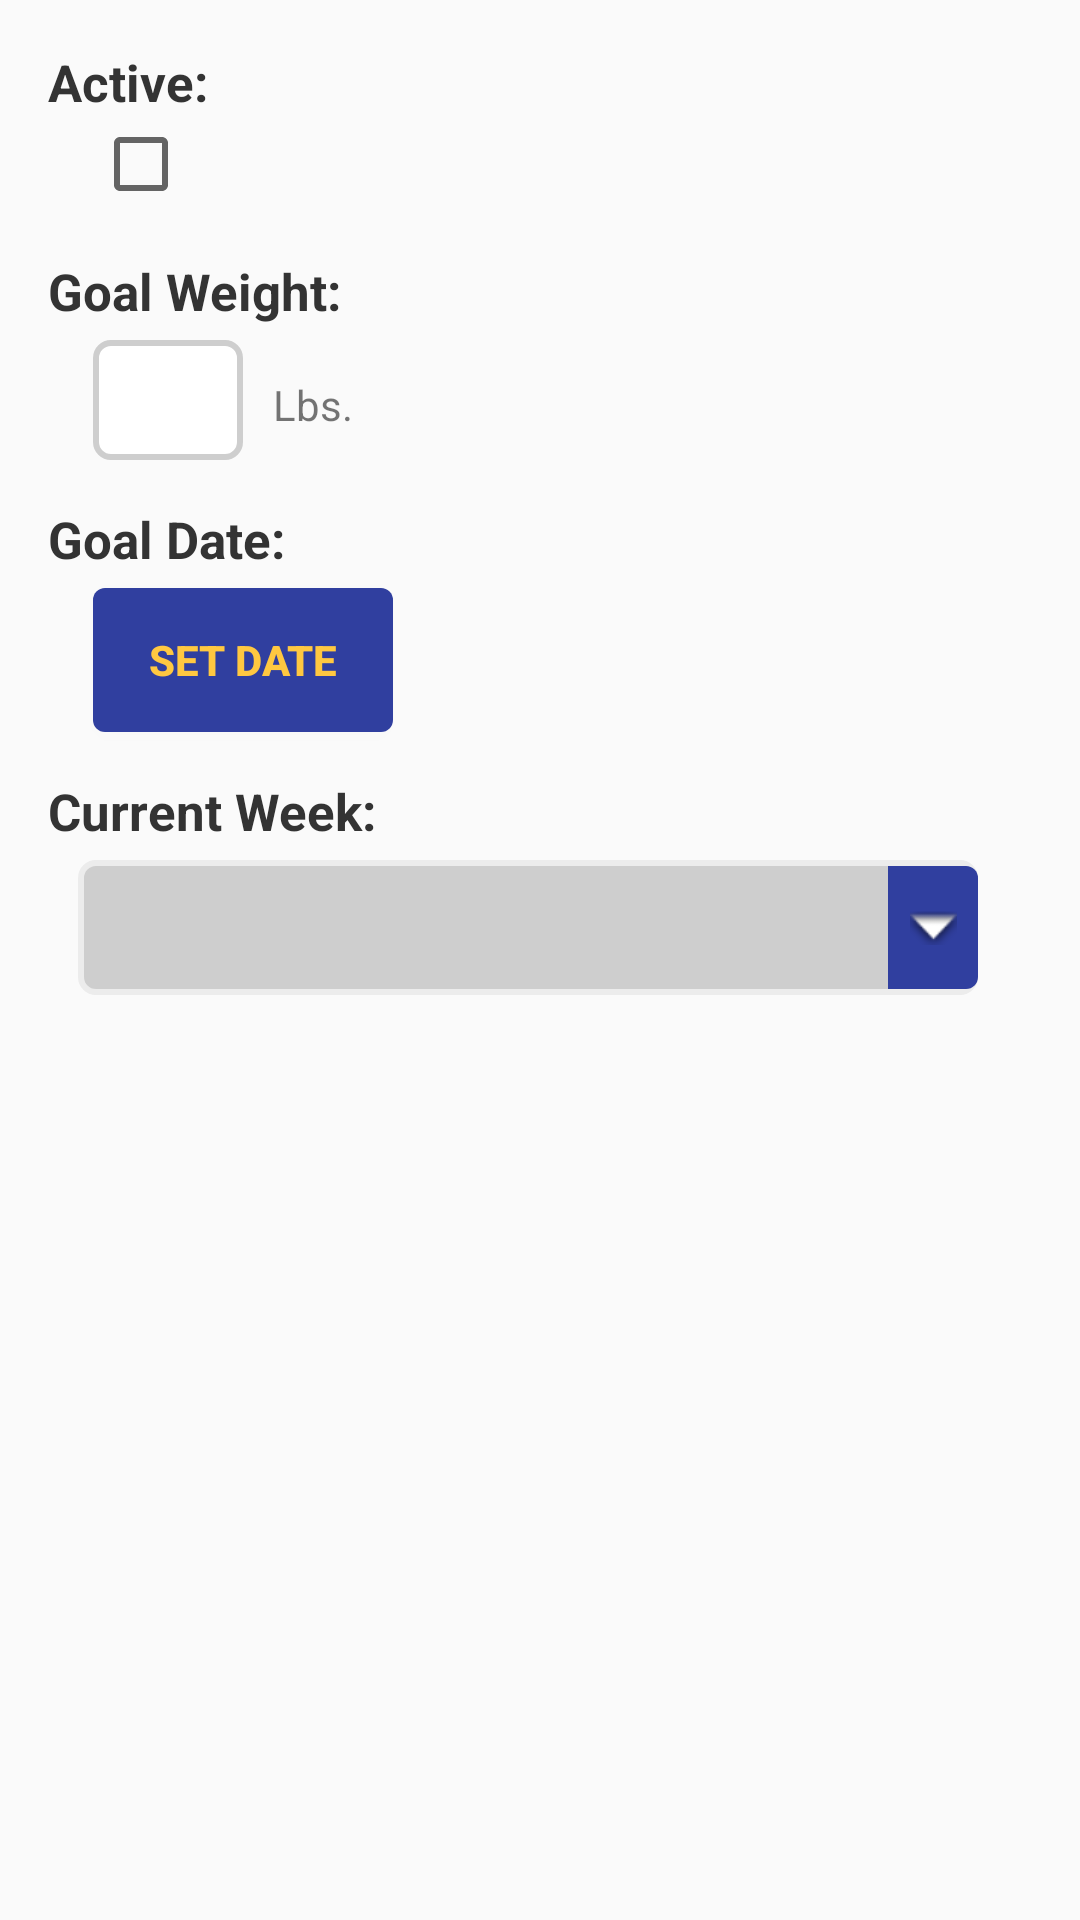

Named icons in this screenshot (1080 × 1920) and their centers, (x=x, y=y):
arrow down float: (x=933, y=927)
